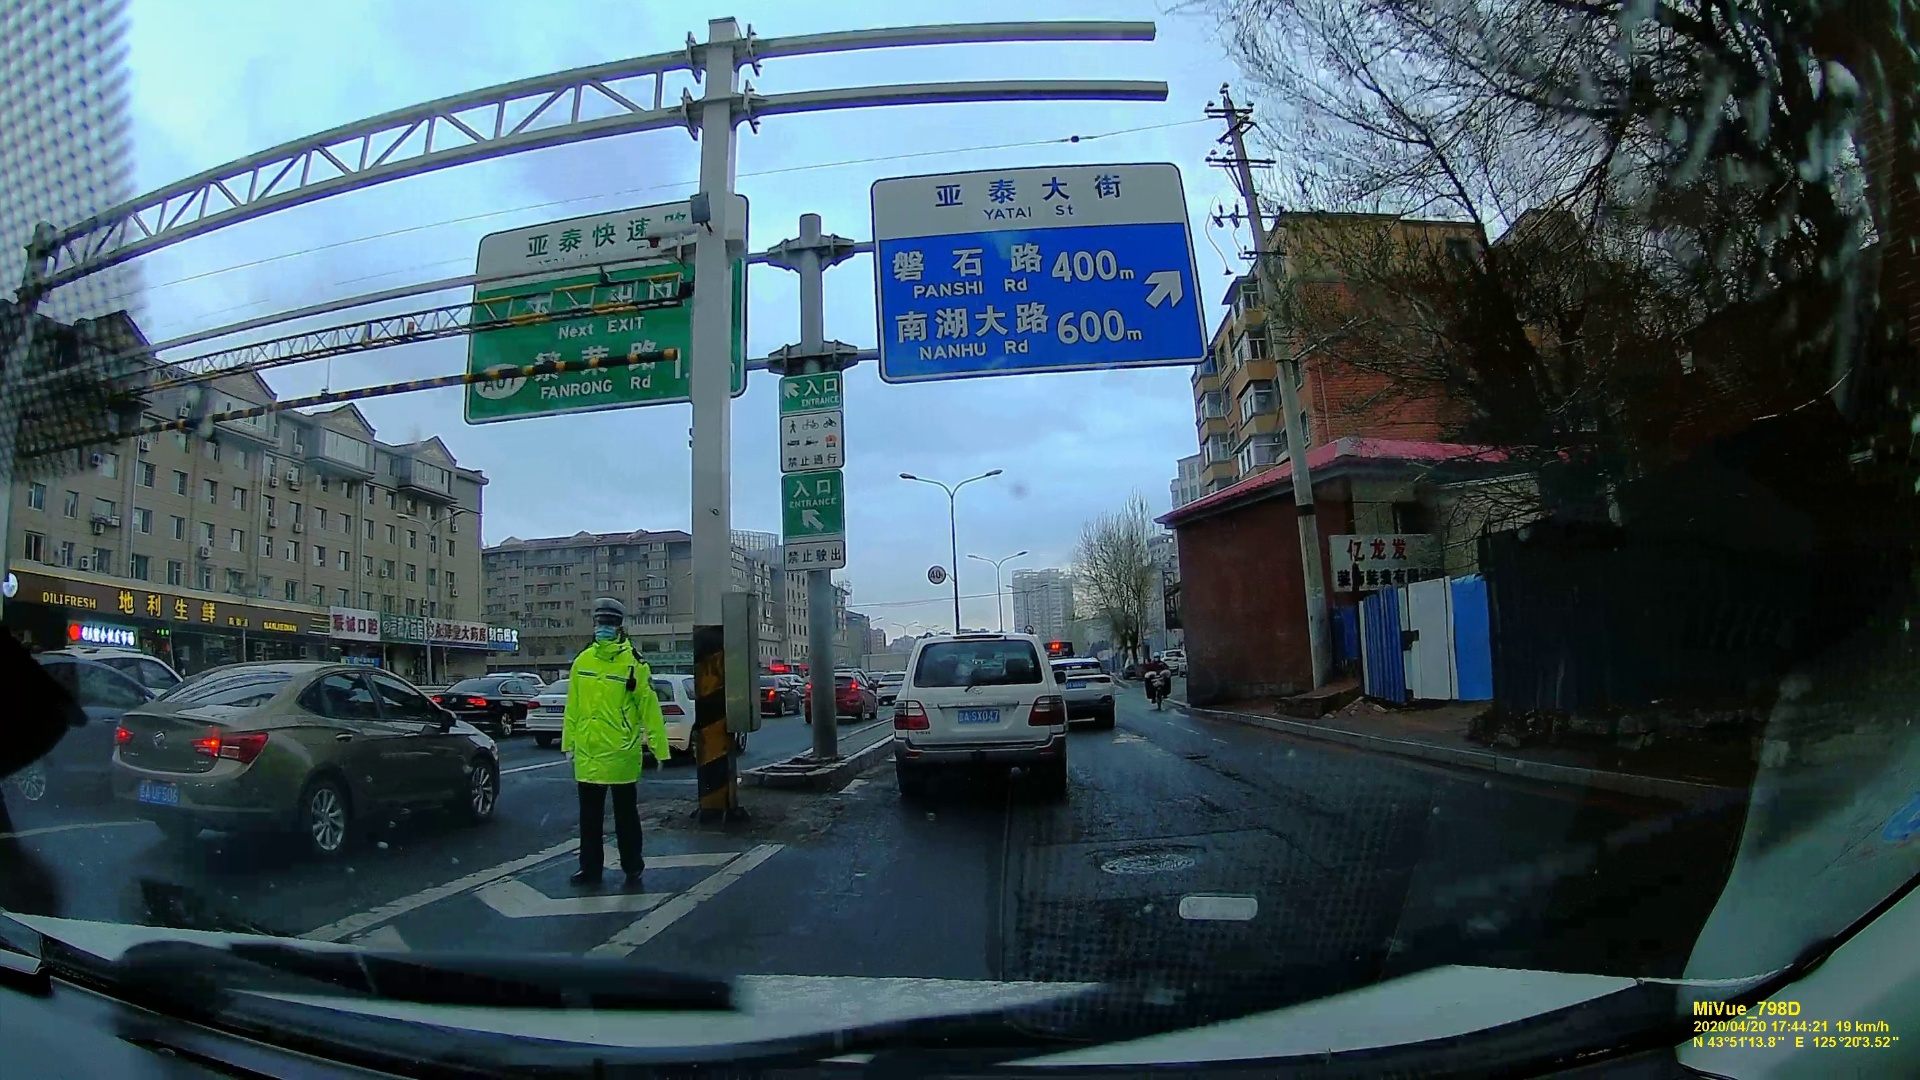person: (555, 600, 675, 900)
traffic_sign: (858, 168, 1204, 376), (464, 204, 732, 414), (784, 466, 845, 554), (781, 406, 844, 472), (786, 373, 834, 409)
vehicle: (103, 657, 490, 863), (894, 628, 1072, 776), (438, 673, 548, 733)
